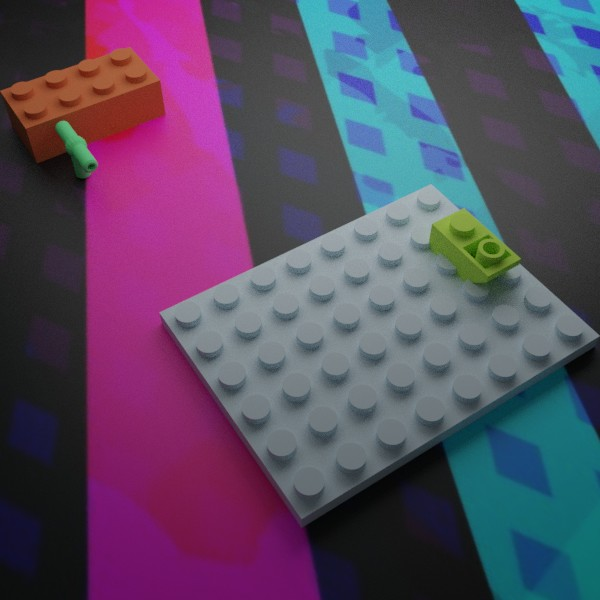lego: (159, 184, 599, 527), (0, 46, 165, 163), (425, 207, 521, 283), (55, 120, 97, 178)
